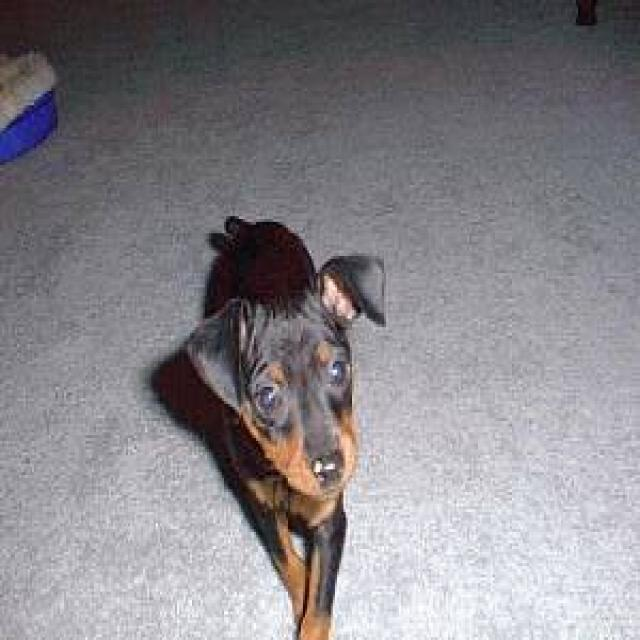dog-miniature_pinscher: (175, 205, 390, 634)
